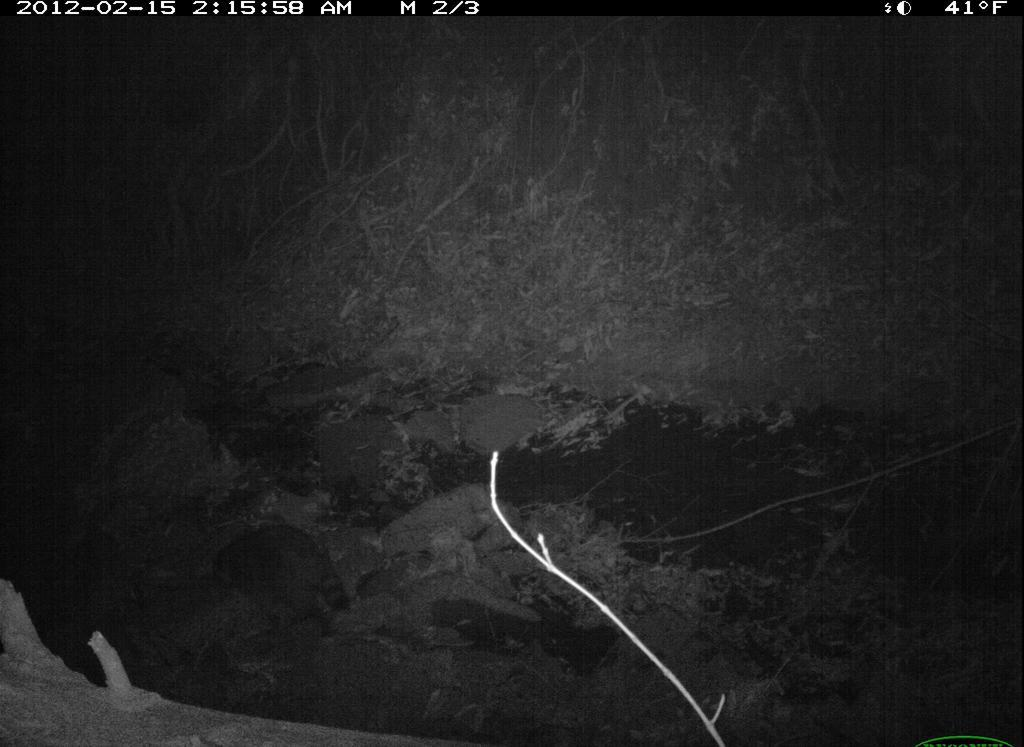raccoon: (198, 504, 367, 639)
